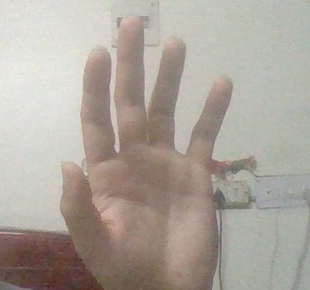move: (50, 10, 238, 284)
